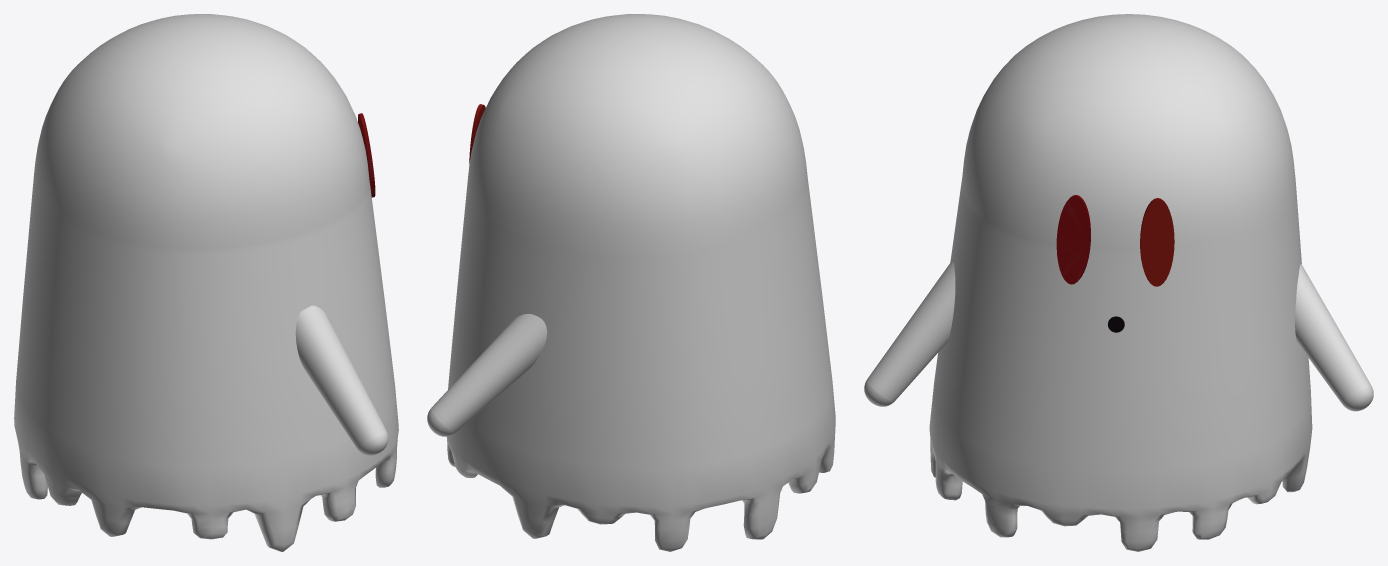
File: fantasma prueba .fbx
The picture shows the model from 3 angles, left to right: view 1: azimuth 30°, elevation 25°; view 2: azimuth 150°, elevation 25°; view 3: azimuth 270°, elevation 25°; orthographic projection.
Visible parts, largest first — view 1: Cylinder; view 2: Cylinder; view 3: Cylinder.
Boxes of the visible parts, left/top/right/bottom form: Cylinder: left=14, top=14, right=398, bottom=551; Cylinder: left=427, top=14, right=835, bottom=551; Cylinder: left=864, top=14, right=1373, bottom=551.
Size of the model in its own units: 191 by 251 by 255.
